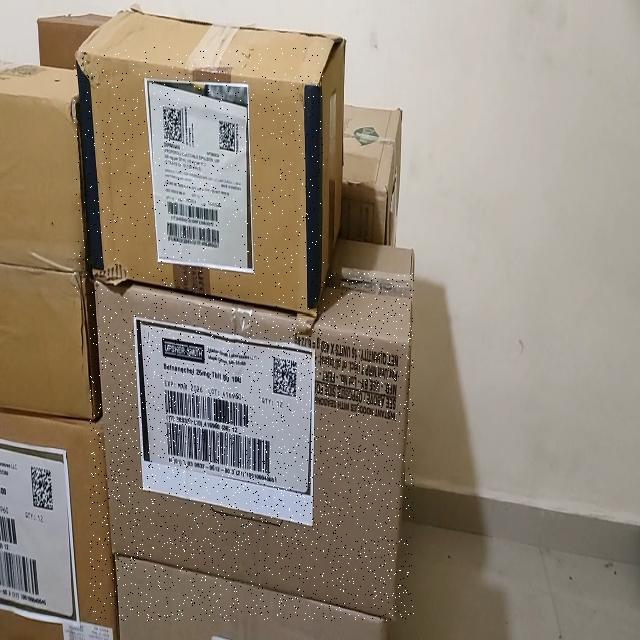BoxFace: (90, 272, 414, 621), (74, 47, 324, 316)
